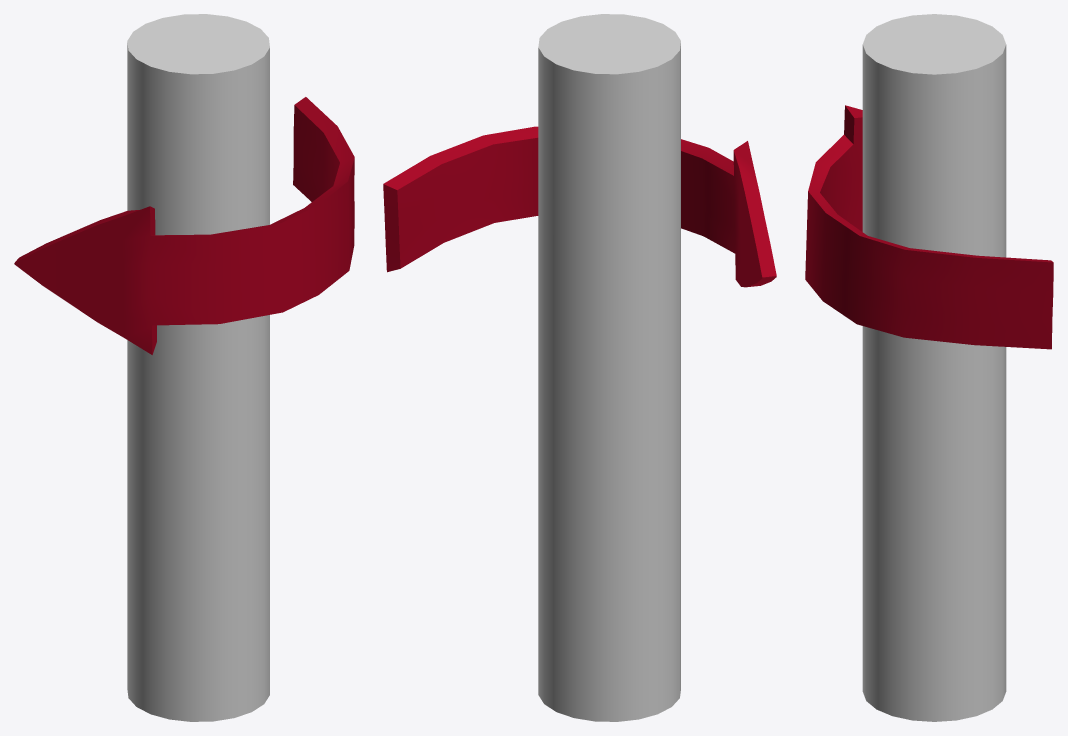
The model's file is IconScrew.fbx.
3 views of the same model, side by side, from view 1: azimuth 30°, elevation 25°; view 2: azimuth 150°, elevation 25°; view 3: azimuth 270°, elevation 25° (orthographic).
Parts seen in each view (by area): view 1: pCylinder1, pCube2; view 2: pCylinder1, pCube2; view 3: pCylinder1, pCube2.
Part boxes in pixels (box(x1,y1,x2,y2)): pCylinder1: box(127, 14, 269, 721); pCube2: box(14, 97, 354, 354); pCylinder1: box(538, 14, 680, 721); pCube2: box(383, 126, 776, 287); pCylinder1: box(862, 14, 1006, 721); pCube2: box(805, 105, 1053, 349).
Size of the model in its own units: 6.13 by 11.07 by 3.85.
